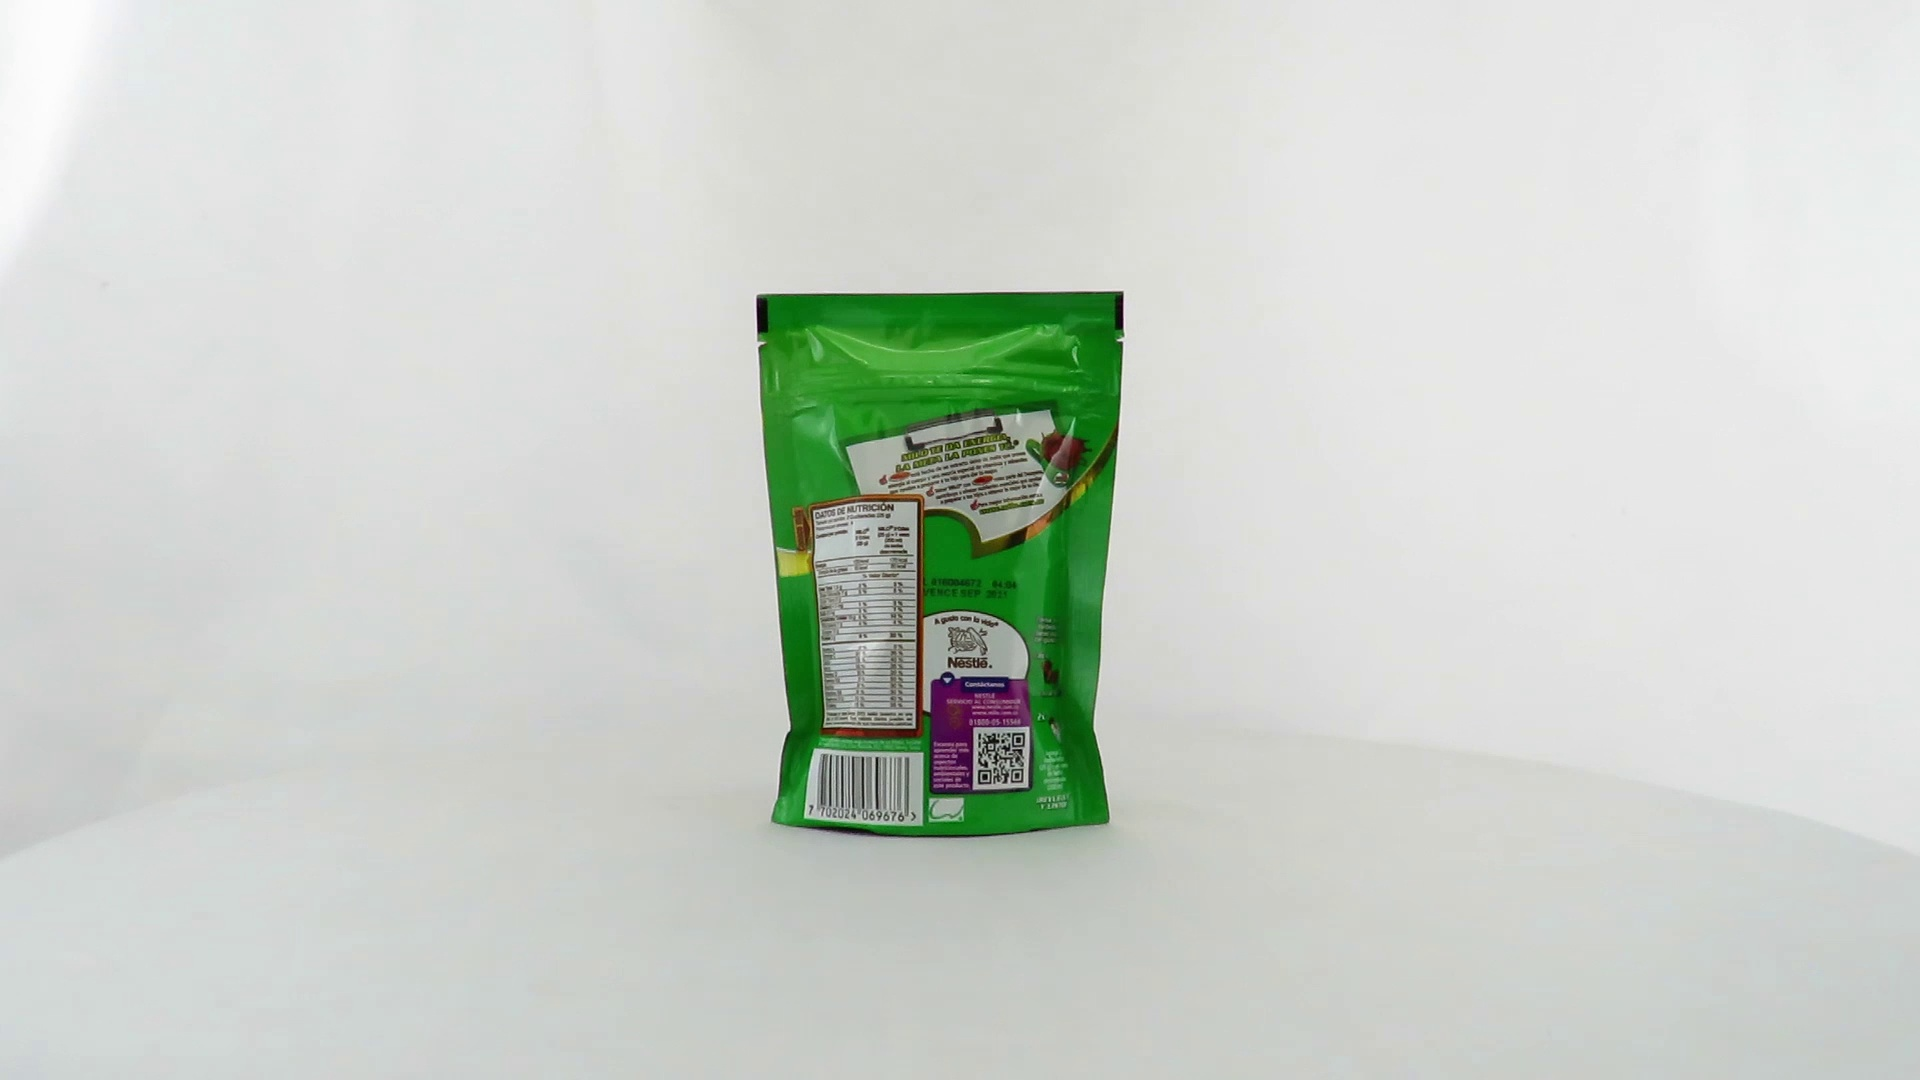COL0170203DYP10000: (752, 286, 1131, 844)
